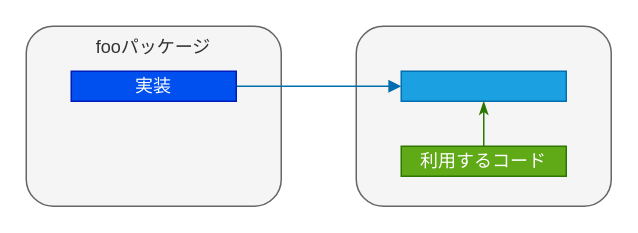
This 638x233 diagram has some shape labels left out. The box of each missing label's shape, as (x1, y1, x2, y2) in pixels:
barパッケージ: (355, 25, 611, 206)
インターフェース: (400, 70, 566, 101)
